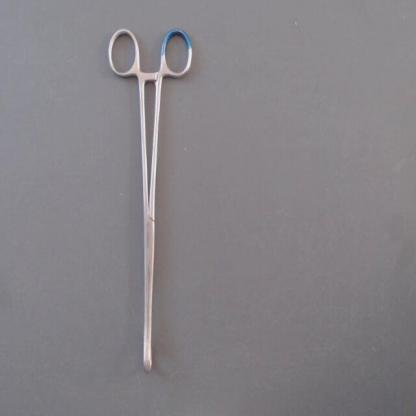Sponge Forceps: (99, 20, 199, 384)
